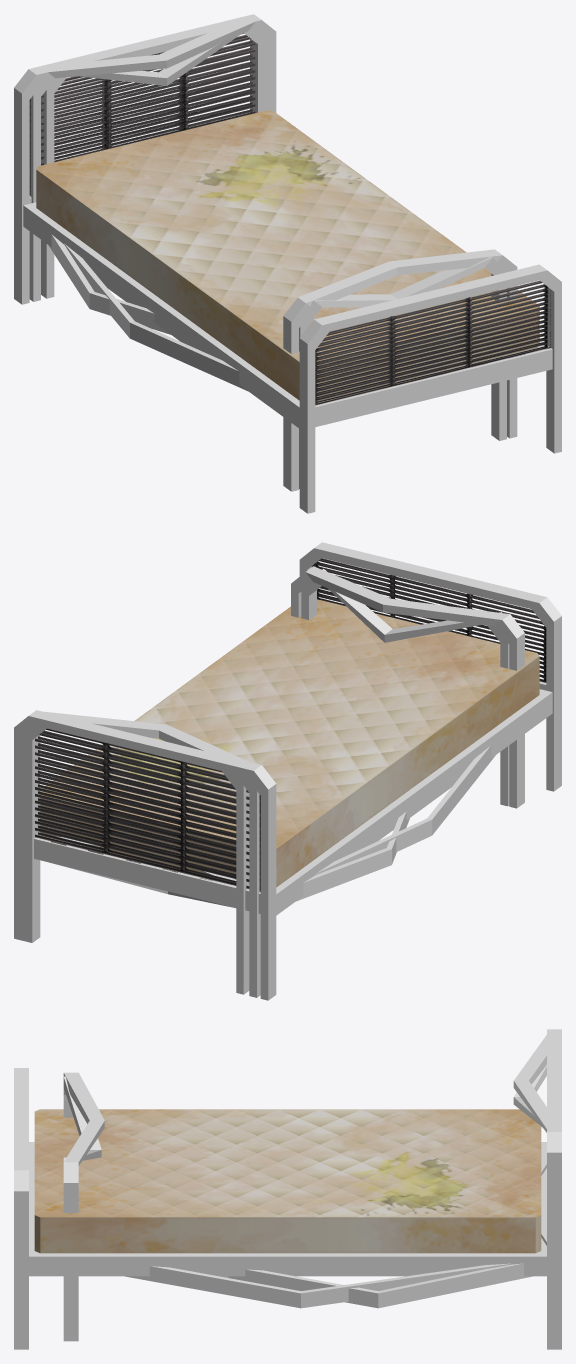
Rendered from bed.fbx.
3 renders of one model, top to bottom at view 1: azimuth 30°, elevation 25°; view 2: azimuth 150°, elevation 25°; view 3: azimuth 270°, elevation 25°, orthographic. The views are drawn at different scales.
Visible parts, largest first — view 1: Mattress, Bed, Bed_bent, Bed_pieces.001, Bed_pieces, Bed_pieces.003, Bed_timber_cell; view 2: Mattress, Bed, Bed_bent, Bed_pieces.001, Bed_pieces, Bed_pieces.003, Bed_timber_cell; view 3: Mattress, Bed, Bed_bent, Bed_pieces.002, Bed_timber_cell.001_cell, Bed_pieces, Bed_pieces.001.
Boxes of the visible parts, x1,y1,x2,y2 form: Mattress: [36, 110, 539, 401]; Bed: [14, 14, 561, 513]; Bed_bent: [29, 17, 517, 491]; Bed_pieces.001: [41, 25, 265, 298]; Bed_pieces: [299, 257, 506, 488]; Bed_pieces.003: [48, 234, 170, 334]; Bed_timber_cell: [23, 209, 299, 409]; Mattress: [40, 599, 539, 887]; Bed: [14, 542, 561, 1000]; Bed_bent: [20, 566, 524, 997]; Bed_pieces.001: [24, 721, 249, 994]; Bed_pieces: [301, 569, 509, 806]; Bed_pieces.003: [296, 811, 409, 901]; Bed_timber_cell: [276, 709, 535, 899]; Mattress: [34, 1109, 541, 1253]; Bed: [14, 1029, 561, 1349]; Bed_bent: [63, 1034, 561, 1341]; Bed_pieces.002: [220, 1263, 532, 1308]; Bed_timber_cell.001_cell: [29, 1253, 465, 1257]; Bed_pieces: [63, 1076, 101, 1161]; Bed_pieces.001: [513, 1065, 546, 1127].
Size of the model in its own units: 124 by 85 by 200.
